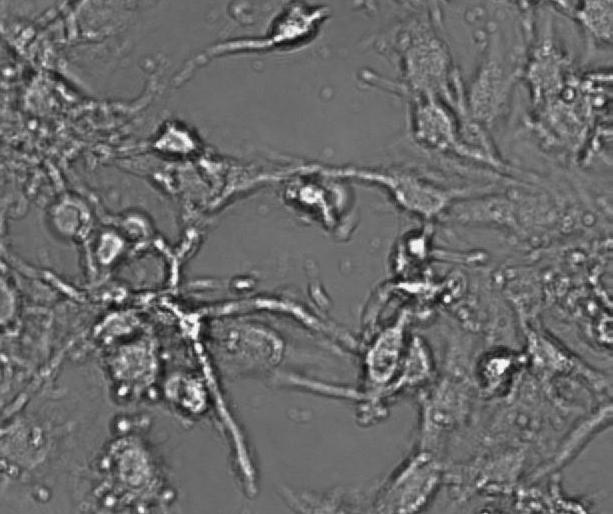Dead: (279, 163, 355, 233), (248, 3, 334, 63), (392, 229, 454, 310), (159, 361, 218, 421), (470, 342, 535, 395), (144, 114, 207, 166), (45, 191, 98, 244), (115, 205, 158, 263), (92, 226, 131, 268)
